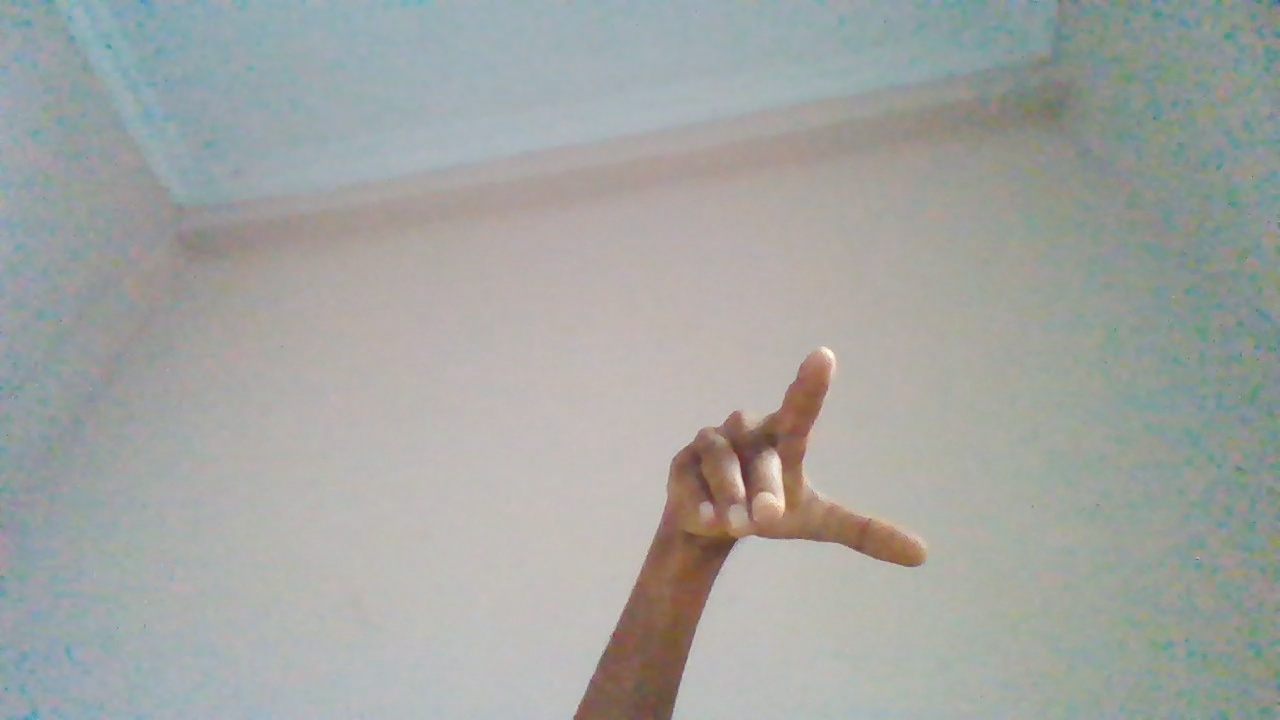ke: (640, 340, 933, 711)
